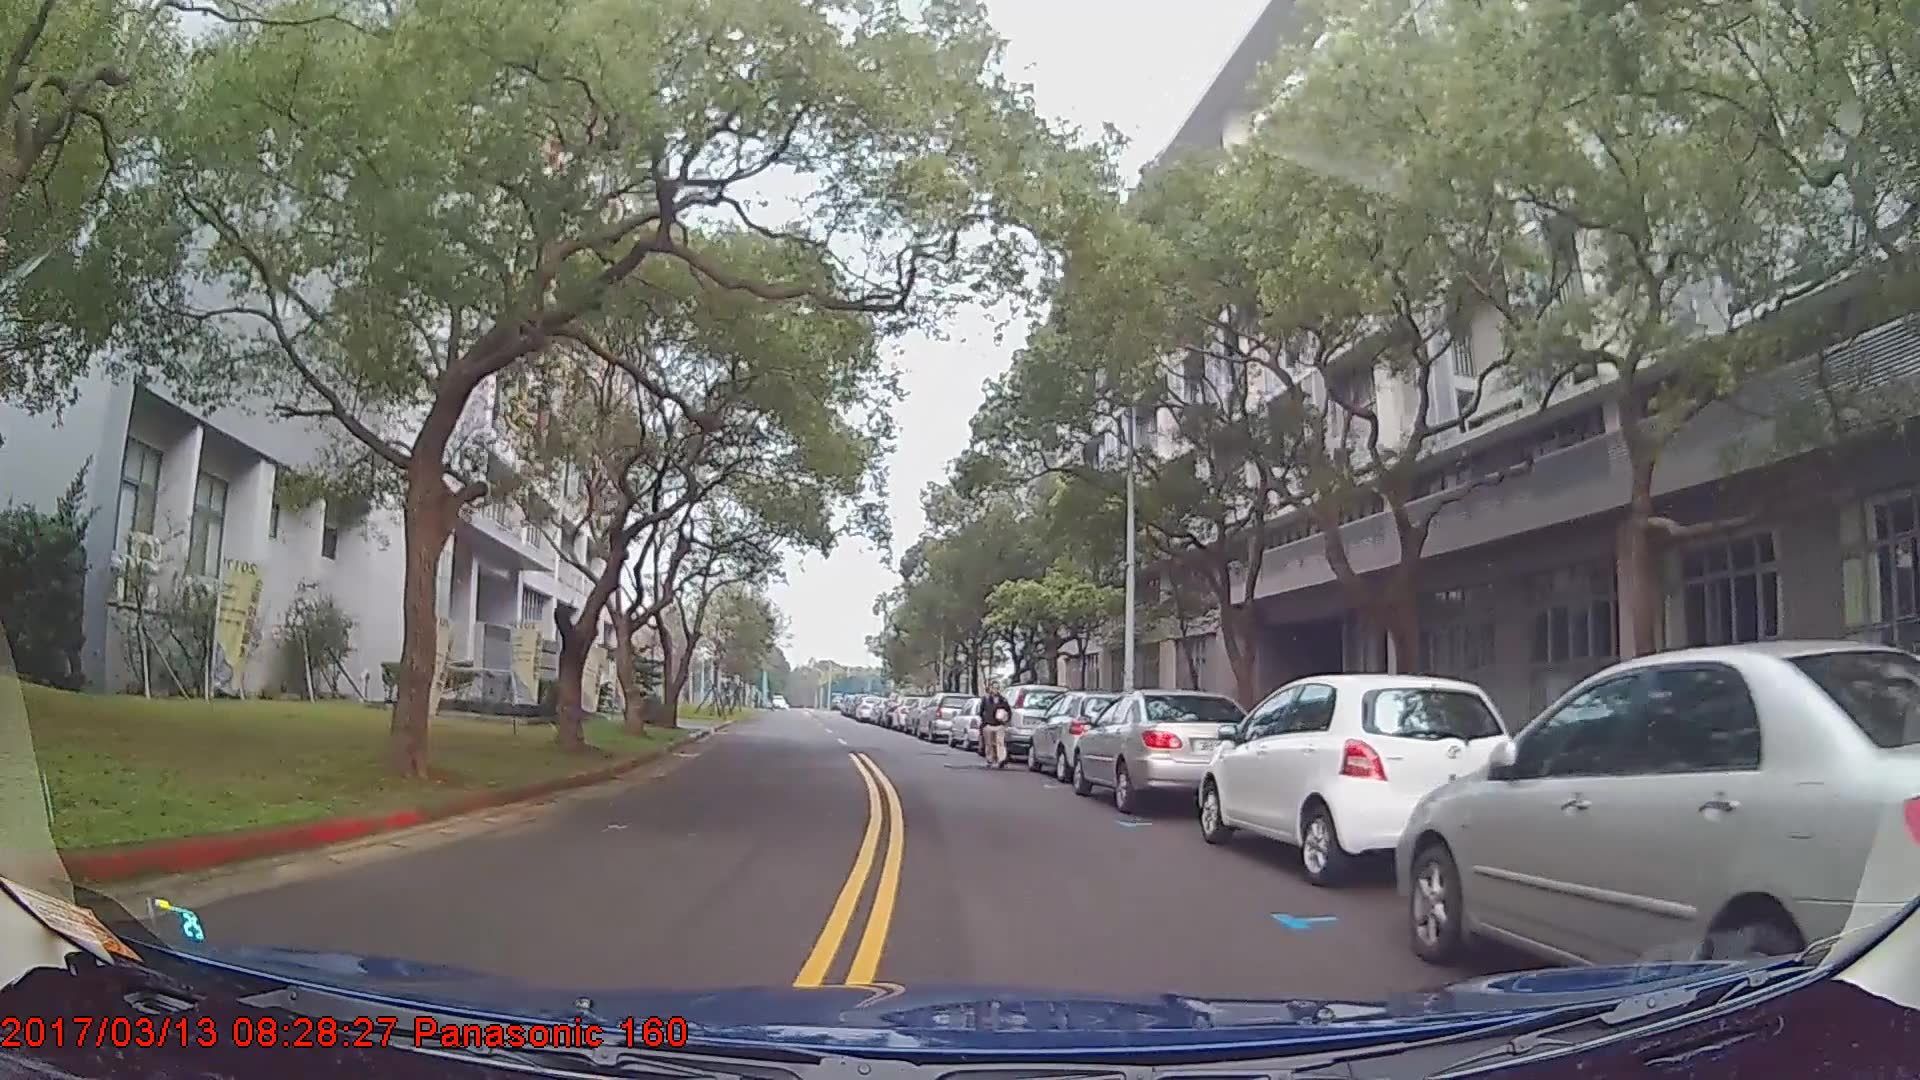pedestrian: (980, 676, 1015, 768)
vehicle: (1393, 633, 1920, 1011), (1199, 670, 1522, 886), (1069, 686, 1256, 812), (1027, 687, 1148, 781), (984, 682, 1071, 759), (915, 691, 974, 743)
